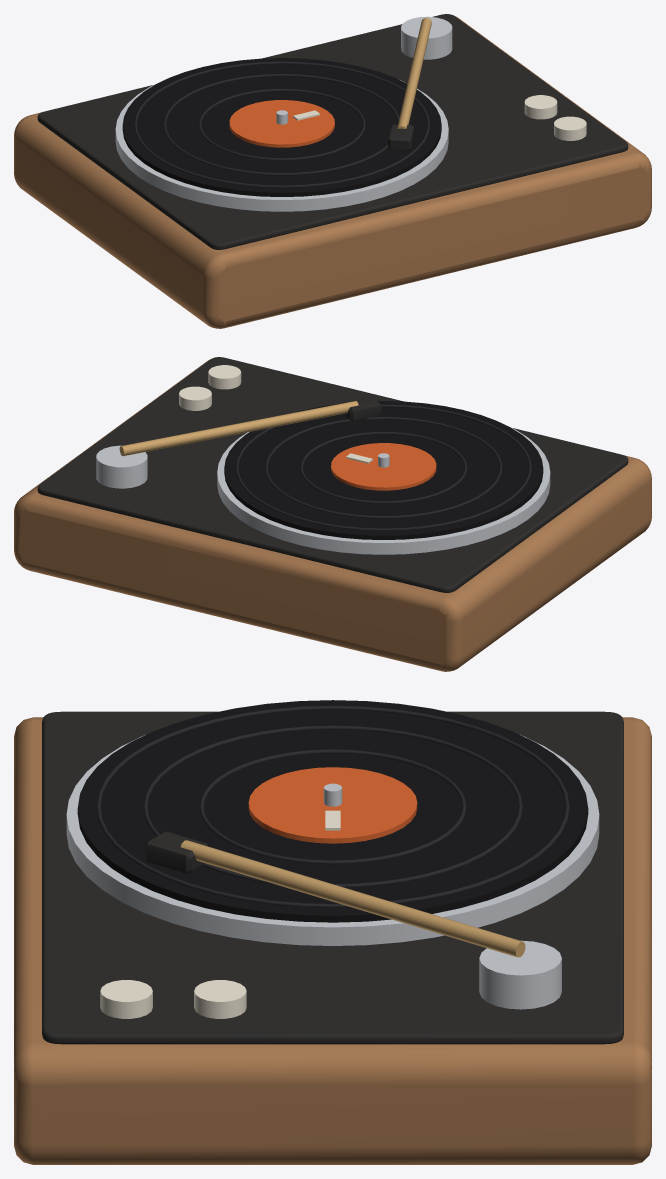
File: vinyl.glb
3 views of the same model, one above another, from view 1: azimuth 30°, elevation 25°; view 2: azimuth 150°, elevation 25°; view 3: azimuth 270°, elevation 25° (orthographic). The views are drawn at different scales.
Parts seen in each view (by area): view 1: Wood, Platter, Deck, Metal, Knob, Brass; view 2: Wood, Platter, Deck, Metal, Brass, Knob; view 3: Wood, Platter, Deck, Metal, Brass, Knob.
Boxes of the visible parts, left/top/right/bottom form: Wood: left=14, top=16, right=651, bottom=328; Platter: left=122, top=58, right=441, bottom=196; Deck: left=37, top=14, right=628, bottom=249; Metal: left=115, top=16, right=452, bottom=211; Knob: left=524, top=95, right=586, bottom=140; Brass: left=397, top=17, right=431, bottom=128; Wood: left=14, top=359, right=651, bottom=671; Platter: left=224, top=401, right=543, bottom=539; Deck: left=37, top=357, right=628, bottom=592; Metal: left=96, top=423, right=550, bottom=554; Brass: left=119, top=401, right=358, bottom=456; Knob: left=179, top=365, right=241, bottom=410; Wood: left=14, top=717, right=651, bottom=1164; Platter: left=77, top=700, right=588, bottom=922; Deck: left=42, top=711, right=623, bottom=1044; Metal: left=66, top=734, right=599, bottom=1009; Brass: left=180, top=840, right=525, bottom=957; Knob: left=100, top=980, right=246, bottom=1018.
Size of the model in its own units: 0.44 by 0.1045 by 0.34.
